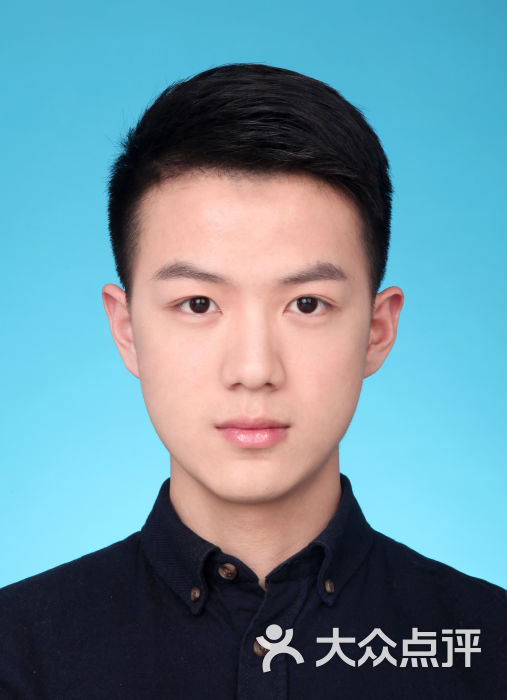unmask: (137, 185, 363, 490)
